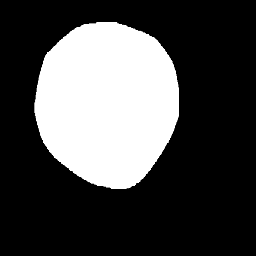mass: (33, 28, 179, 187)
